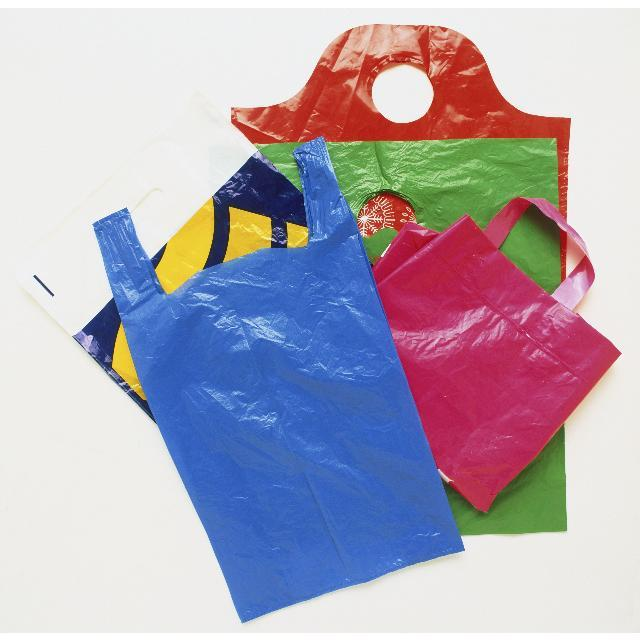plastic: (8, 25, 619, 621)
